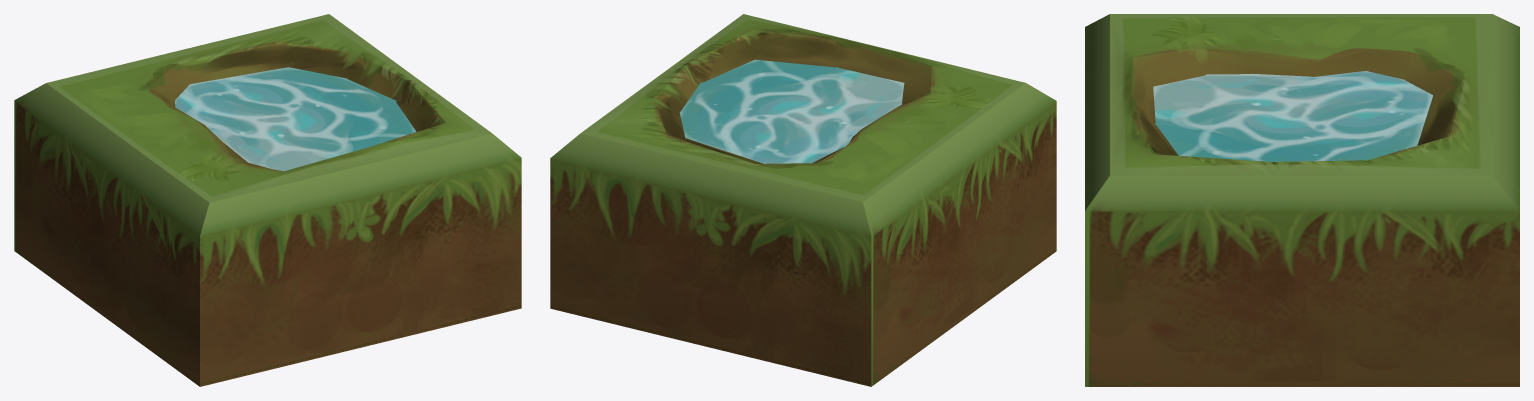
File: tile_Pond4.FBX
3 renders of one model, left to right at view 1: azimuth 30°, elevation 25°; view 2: azimuth 150°, elevation 25°; view 3: azimuth 270°, elevation 25°, orthographic. The views are drawn at different scales.
Visible parts, largest first — view 1: Tile_OasisShape002; view 2: Tile_OasisShape002; view 3: Tile_OasisShape002.
Part boxes in pixels (<box>): Tile_OasisShape002: <box>14,14,521,386</box>; Tile_OasisShape002: <box>550,14,1056,386</box>; Tile_OasisShape002: <box>1085,14,1519,386</box>.
Bounding box in the file's own units: 25.2 × 13.43 × 25.2.
1 material, 1 textured.
